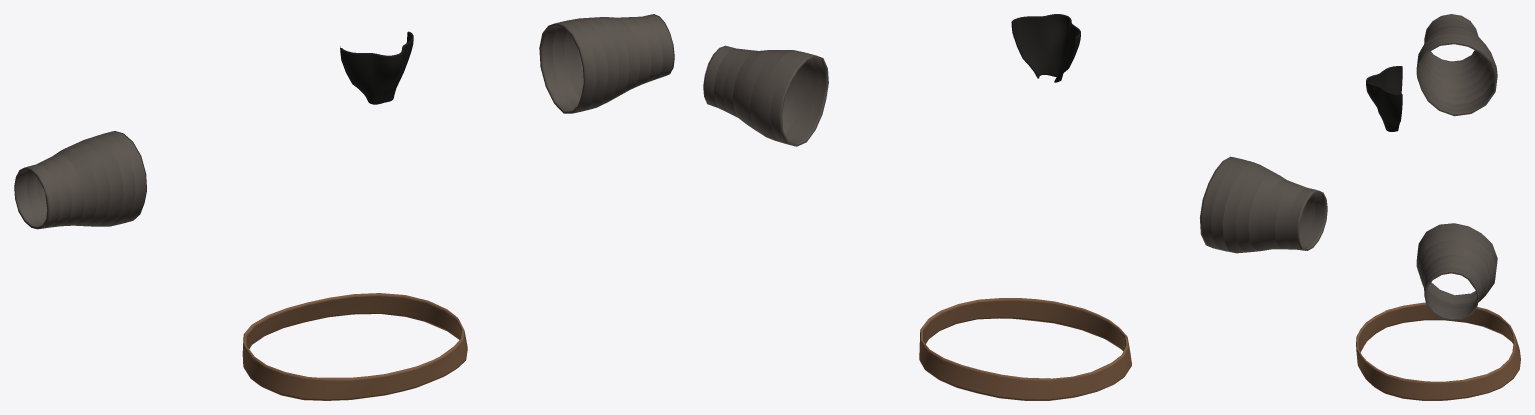
File: armor.class.rogue.default.gltf
3 renders of one model, left to right at view 1: azimuth 30°, elevation 25°; view 2: azimuth 150°, elevation 25°; view 3: azimuth 270°, elevation 25°, orthographic. The views are drawn at different scales.
Visible parts, largest first — view 1: class.rogue.wraps_l, class.rogue.wraps_r, class.rogue.belt, class.rogue.mask; view 2: class.rogue.belt, class.rogue.wraps_r, class.rogue.wraps_l, class.rogue.mask; view 3: class.rogue.wraps_r, class.rogue.belt, class.rogue.wraps_l, class.rogue.mask.
Boxes of the visible parts, x1,y1,x2,y2 form: class.rogue.wraps_l: (539, 14, 674, 113); class.rogue.wraps_r: (14, 131, 146, 229); class.rogue.belt: (242, 293, 467, 400); class.rogue.mask: (340, 31, 413, 104); class.rogue.belt: (919, 298, 1131, 400); class.rogue.wraps_r: (1200, 156, 1327, 253); class.rogue.wraps_l: (703, 45, 828, 146); class.rogue.mask: (1011, 14, 1080, 82); class.rogue.wraps_r: (1416, 14, 1497, 116); class.rogue.belt: (1356, 302, 1520, 400); class.rogue.wraps_l: (1416, 223, 1497, 320); class.rogue.mask: (1366, 66, 1402, 131).
Bounding box in the file's own units: 1.35 × 0.6907 × 0.3643.
